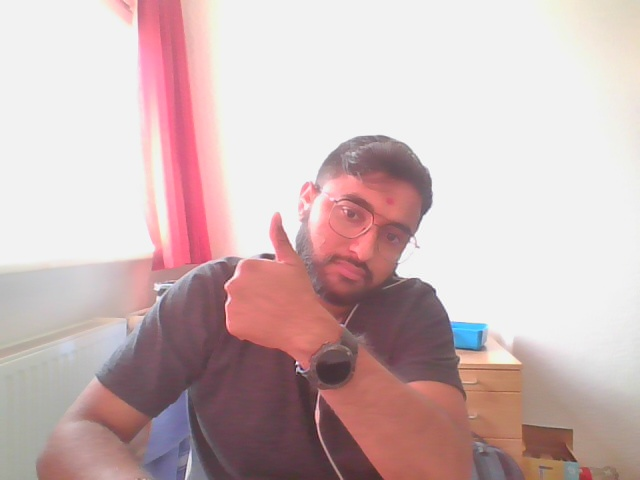ThumbsUp: (221, 212, 319, 360)
